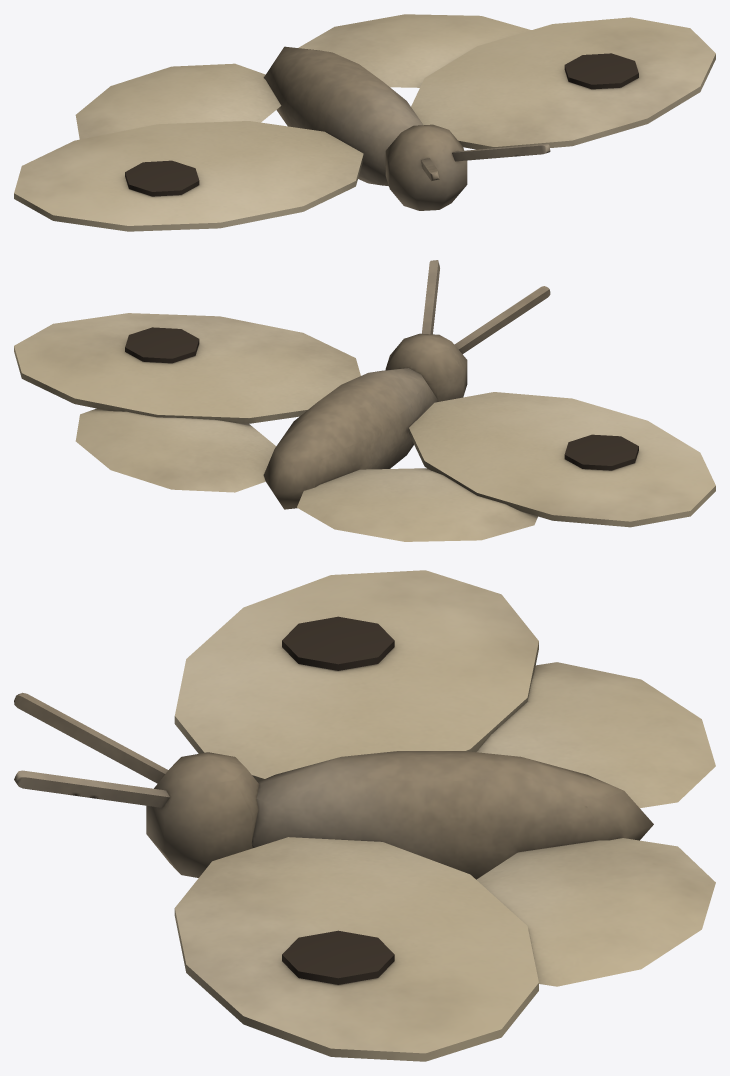
File: moth.fbx
The picture shows the model from 3 angles, top to bottom: view 1: azimuth 30°, elevation 25°; view 2: azimuth 150°, elevation 25°; view 3: azimuth 270°, elevation 25°; orthographic projection. The views are drawn at different scales.
Visible parts, largest first — view 1: WingR, WingL, Body; view 2: WingR, WingL, Body; view 3: WingL, WingR, Body.
Part boxes in pixels (x1,y1,x2,y2): WingR: (14, 63, 363, 231); WingL: (298, 14, 715, 149); Body: (264, 46, 550, 210); WingR: (297, 392, 715, 541); WingL: (14, 313, 360, 492); Body: (263, 260, 550, 509); WingL: (174, 837, 715, 1061); WingR: (174, 570, 715, 808); Body: (14, 692, 653, 879).
Bounding box in the file's own units: 0.6156 × 0.0941 × 0.3779.
1 material, 1 textured.
